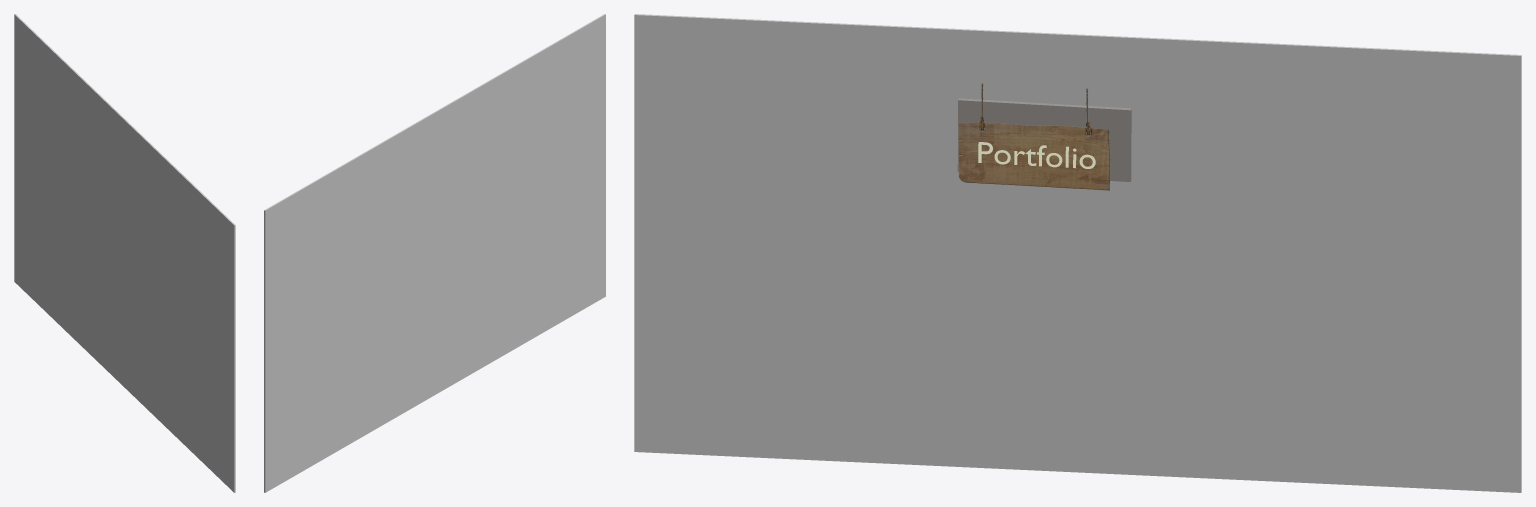
The model's file is panneau-portfolio.glb.
3 views of the same model, side by side, from view 1: azimuth 30°, elevation 25°; view 2: azimuth 150°, elevation 25°; view 3: azimuth 270°, elevation 25° (orthographic). The views are drawn at different scales.
Visible parts, largest first — view 1: Cube.001; view 2: Cube.001; view 3: Cube.001, pancarte-portfolio-webp, ombre, container-texte.
Part boxes in pixels (box(x1,y1,x2,y2)): Cube.001: box(14, 14, 235, 492); Cube.001: box(264, 14, 605, 492); Cube.001: box(634, 14, 1521, 492); pancarte-portfolio-webp: box(958, 83, 1111, 190); ombre: box(957, 98, 1131, 181); container-texte: box(978, 142, 1095, 168).
Size of the model in its own units: 8.07 by 39.12 by 71.98.
Materials: 5 (1 with a texture image).
